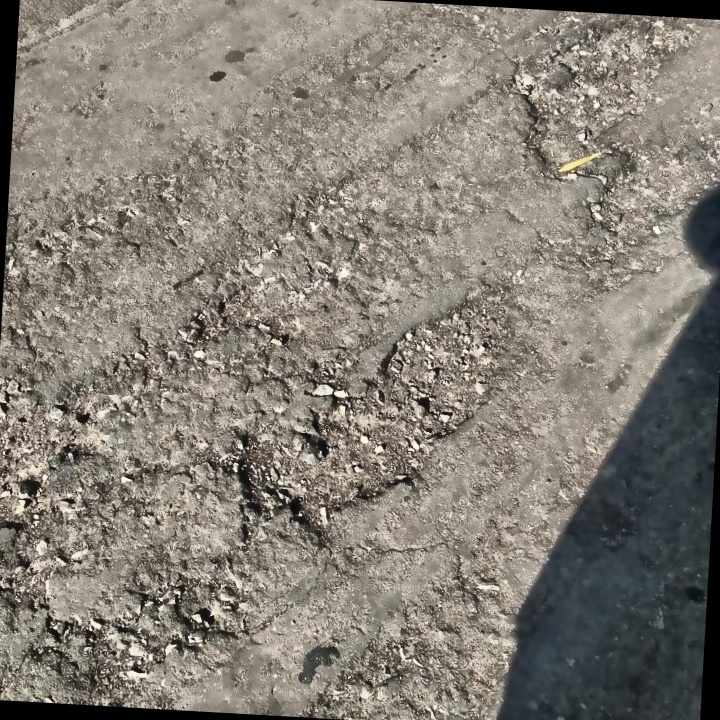pothole: (501, 8, 702, 183), (222, 387, 440, 544), (366, 289, 526, 436), (587, 143, 705, 250)
